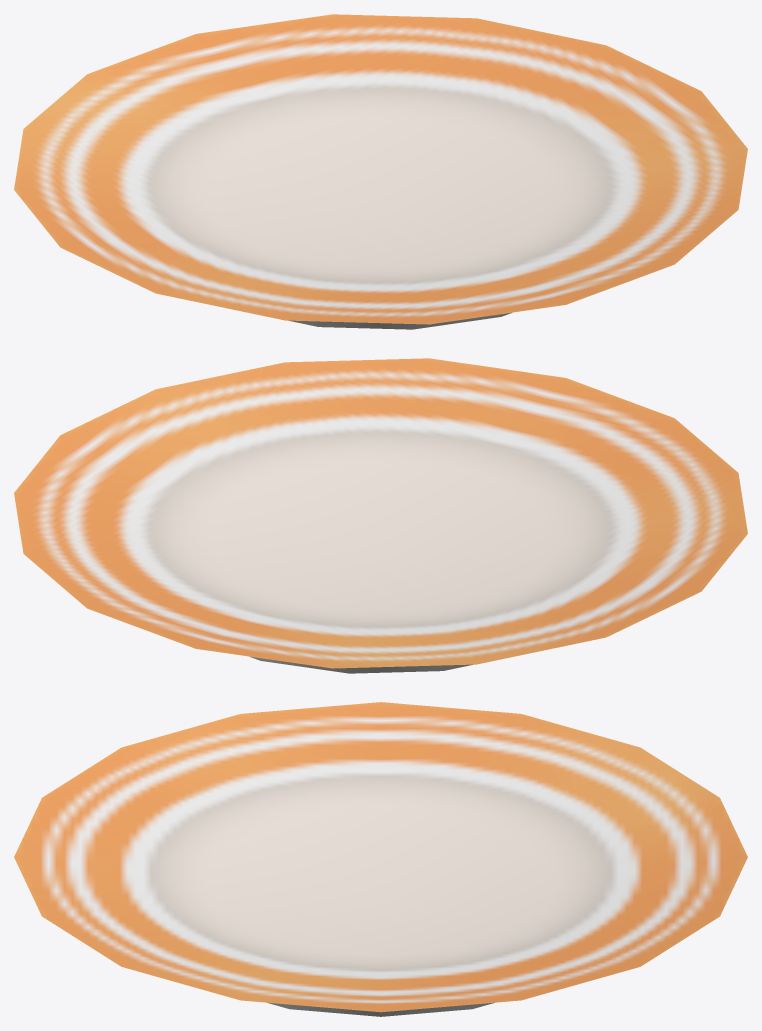
Rendered from KR_Round_tray_01_01.fbx.
The picture shows the model from 3 angles, top to bottom: view 1: azimuth 30°, elevation 25°; view 2: azimuth 150°, elevation 25°; view 3: azimuth 270°, elevation 25°; orthographic projection.
Parts seen in each view (by area): view 1: kr_round_tray_01_01; view 2: kr_round_tray_01_01; view 3: kr_round_tray_01_01.
Part boxes in pixels (x1,y1,x2,y2): kr_round_tray_01_01: [14, 14, 747, 329]; kr_round_tray_01_01: [14, 358, 747, 673]; kr_round_tray_01_01: [14, 702, 747, 1016].
Size of the model in its own units: 18.43 by 1.63 by 18.43.
